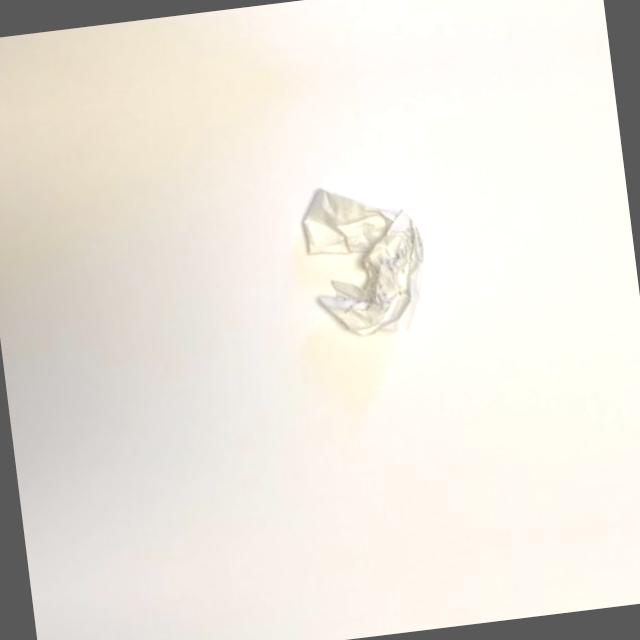paper: (267, 169, 439, 370)
